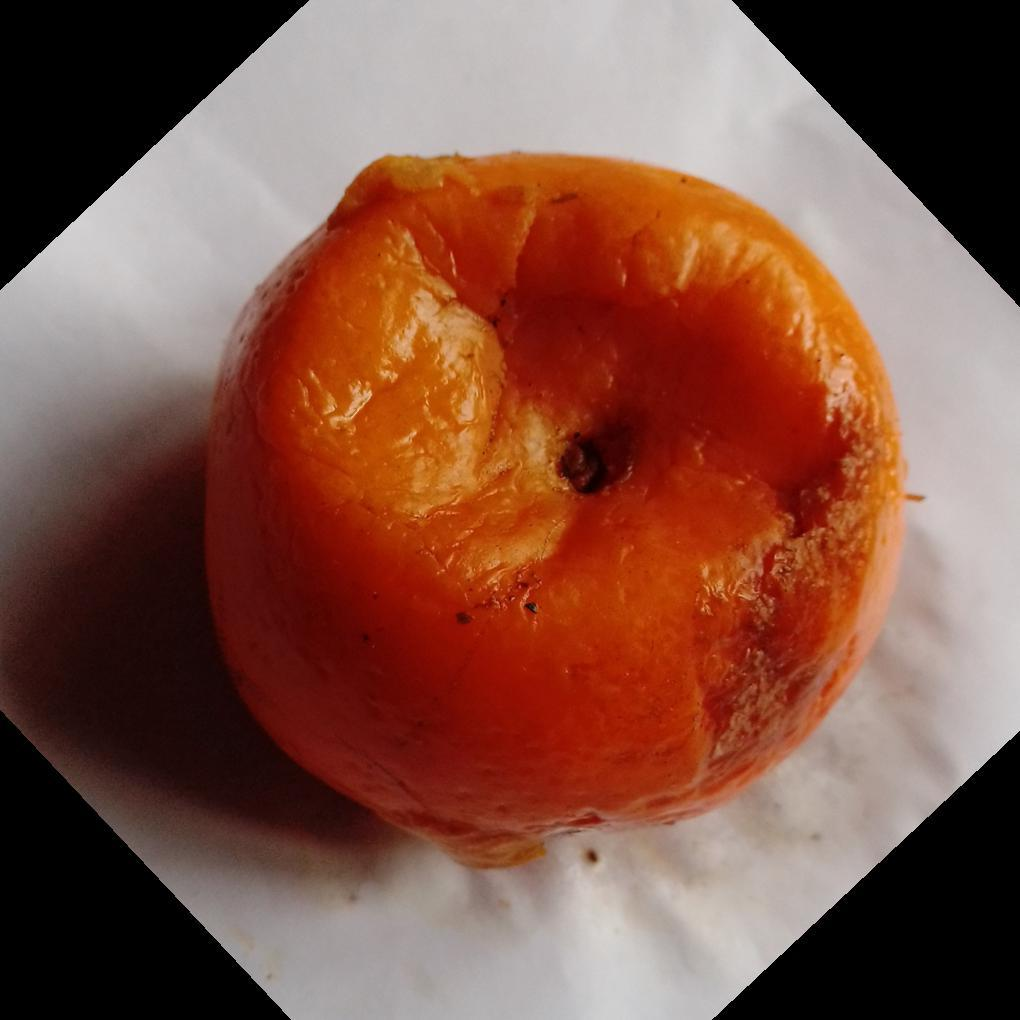FreshOrange: (202, 152, 910, 877)
